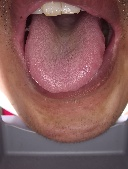tongue: (23, 19, 106, 94)
